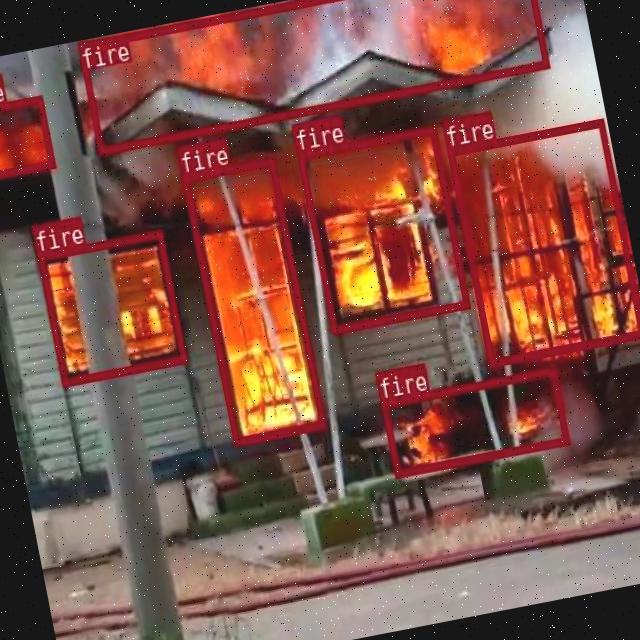fire: (76, 0, 548, 153), (446, 117, 640, 365), (180, 157, 324, 446), (296, 124, 470, 333), (36, 229, 186, 385), (380, 367, 569, 477), (0, 95, 54, 182)
